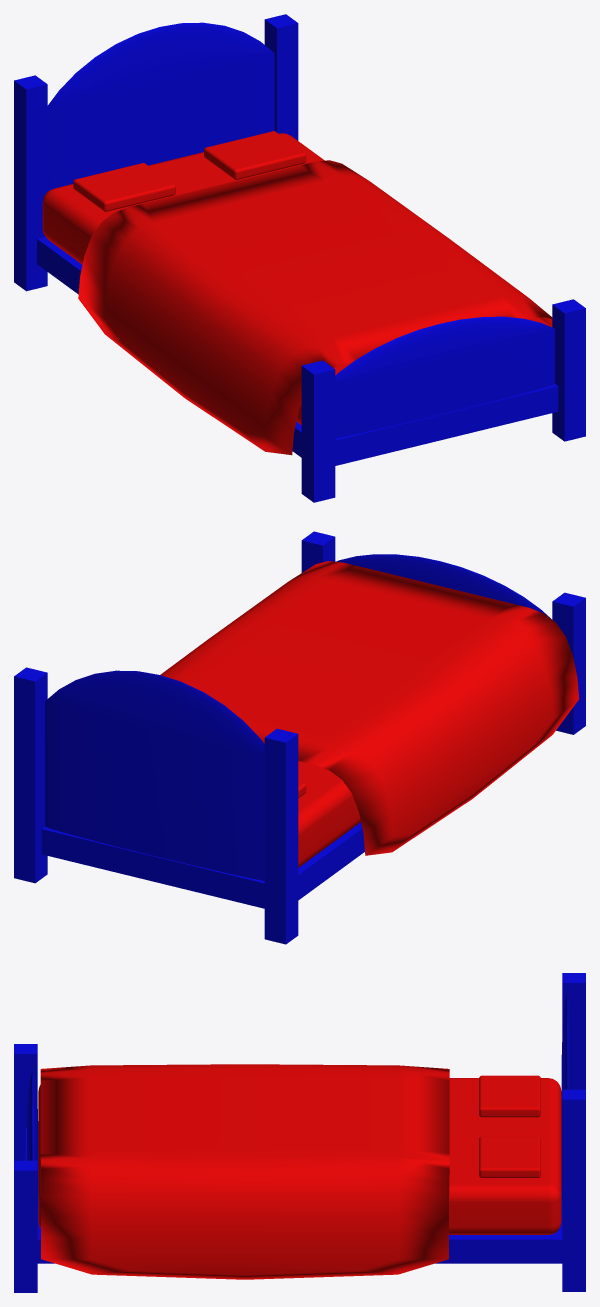
The model's file is bed.fbx.
3 renders of one model, top to bottom at view 1: azimuth 30°, elevation 25°; view 2: azimuth 150°, elevation 25°; view 3: azimuth 270°, elevation 25°, orthographic. The views are drawn at different scales.
Visible parts, largest first — view 1: pCube7, pSphere1, pSphere2, pCube4, pCube2, pCube1, pCube3, pCube6, pCube8; view 2: pCube7, pSphere1, pCube4, pCube1, pCube3, pCube2, pSphere2; view 3: pCube7, pCube3, pCube4, pCube2, pCube1, pCube8, pCube6, pSphere1, pSphere2.
Boxes of the visible parts, box(x1,y1,x2,y2) form: pCube7: box(78, 160, 552, 455); pSphere1: box(47, 22, 274, 191); pSphere2: box(335, 316, 554, 438); pCube4: box(14, 14, 298, 291); pCube2: box(301, 299, 585, 502); pCube1: box(37, 237, 558, 465); pCube3: box(42, 133, 551, 424); pCube6: box(204, 131, 306, 179); pCube8: box(73, 163, 175, 211); pCube7: box(160, 561, 579, 855); pSphere1: box(45, 670, 264, 880); pCube4: box(14, 667, 298, 944); pCube1: box(41, 822, 364, 908); pCube3: box(298, 761, 360, 867); pCube2: box(301, 531, 585, 734); pSphere2: box(336, 554, 551, 619); pCube7: box(40, 1064, 449, 1279); pCube3: box(38, 1078, 561, 1234); pCube4: box(562, 973, 585, 1291); pCube2: box(14, 1044, 37, 1292); pCube1: box(25, 1128, 562, 1263); pCube8: box(479, 1075, 540, 1117); pCube6: box(479, 1136, 540, 1177); pSphere1: box(561, 994, 572, 1200); pSphere2: box(27, 1073, 38, 1200).
Bounding box in the file's own units: 149 × 113 × 267.
